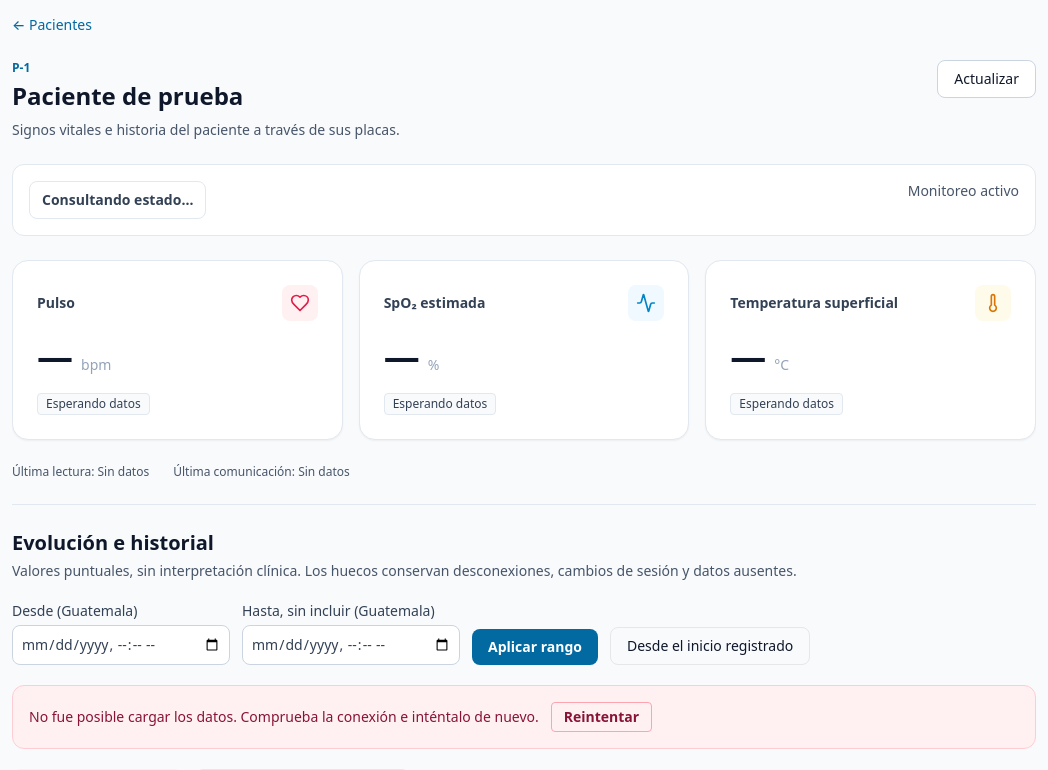
Test: pantalla de monitoreo con la capa de datos › reintenta el archivo que falló y recupera historial después de un error de red
Click the button "Reintentar" at (602, 717), box [551,702,652,732]
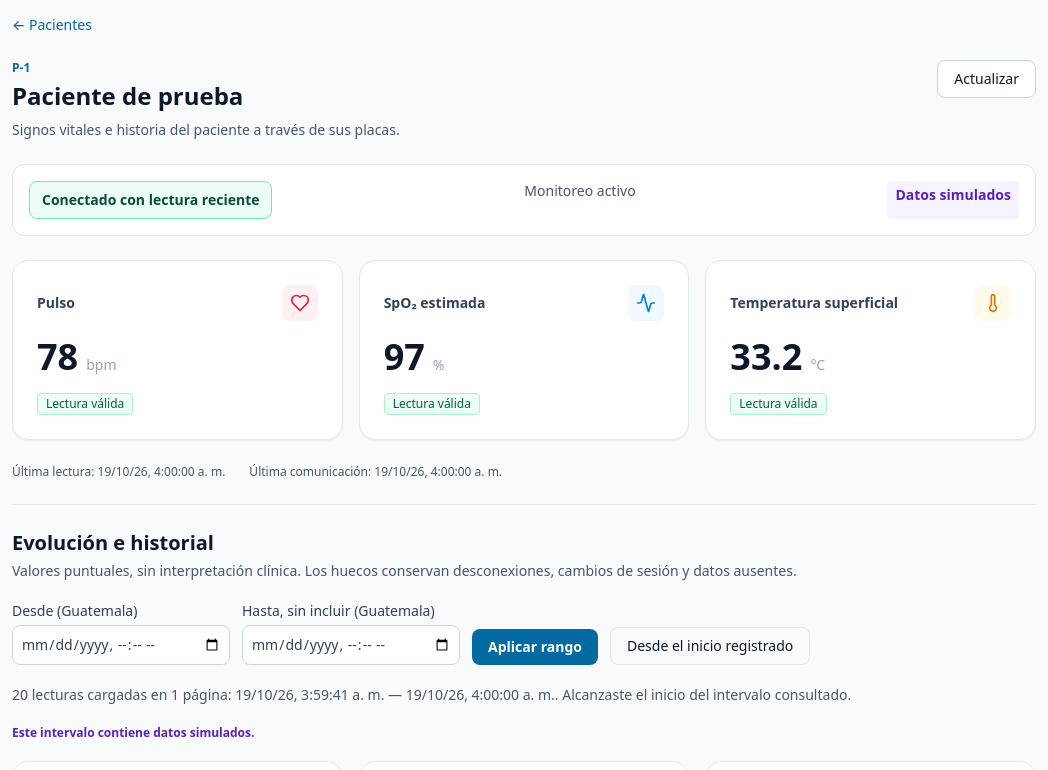
Expected: the text "20 lecturas cargadas en 1 página" is shown, [12,685,851,704]
